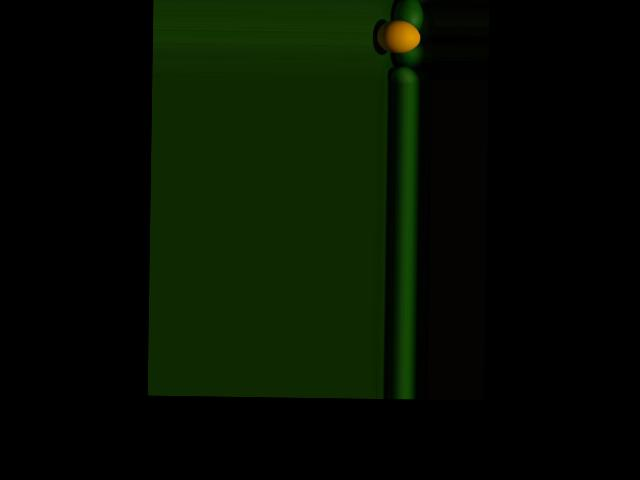egg: (376, 19, 420, 53)
